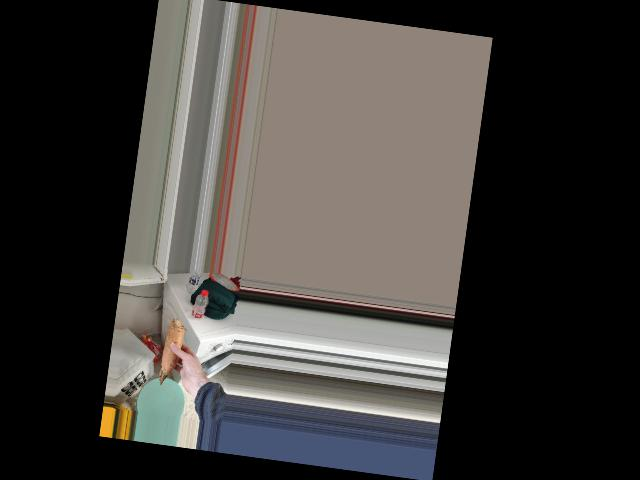sweet_potato: (161, 314, 188, 383)
